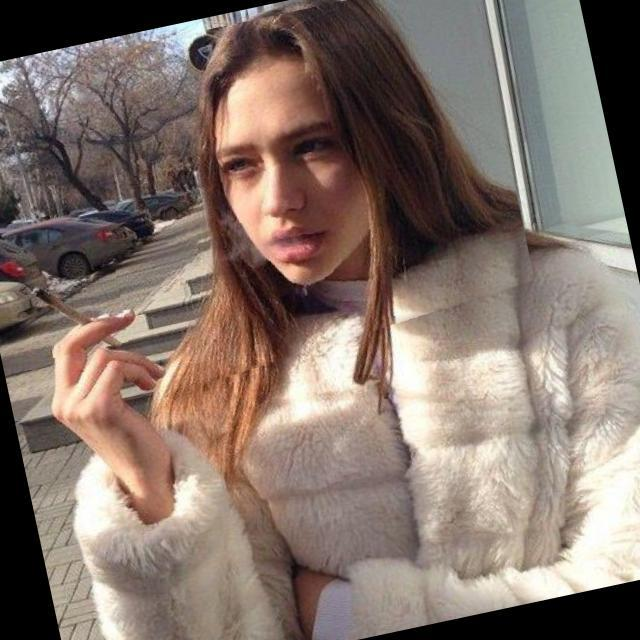cigarette: (14, 248, 130, 362)
